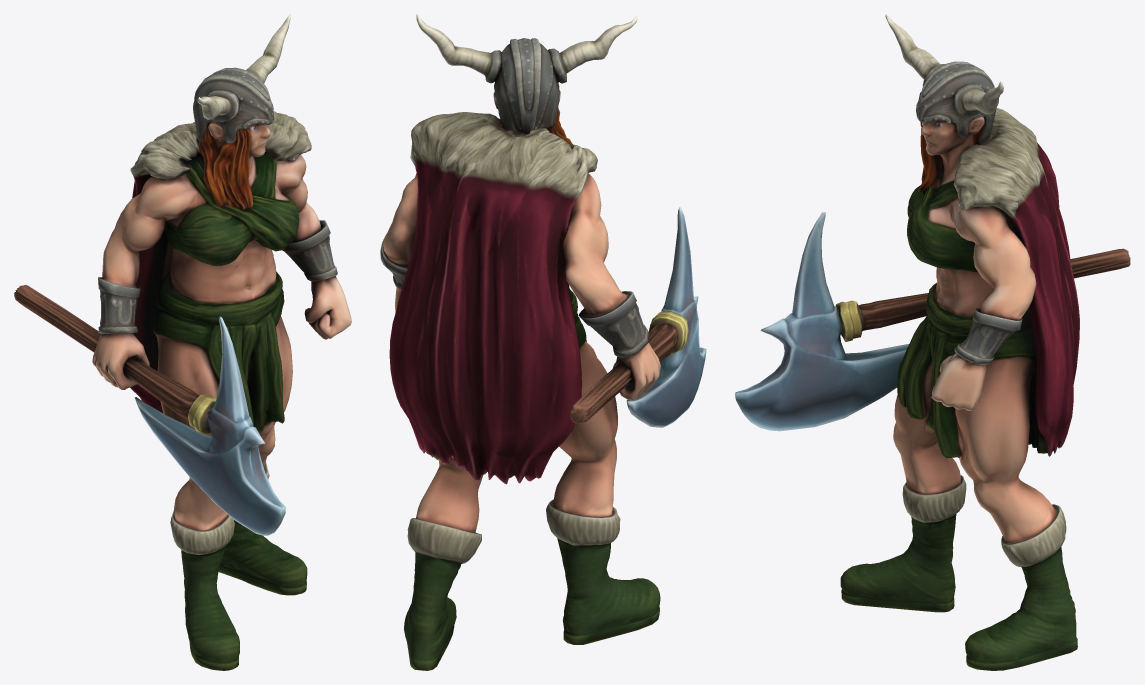
File: MZ4250 - Human Barbarian Female 02.glb
3 renders of one model, left to right at view 1: azimuth 30°, elevation 25°; view 2: azimuth 150°, elevation 25°; view 3: azimuth 270°, elevation 25°, orthographic. The views are drawn at different scales.
Visible parts, largest first — view 1: body_high.002, axe_high.002; view 2: body_high.002, axe_high.002; view 3: body_high.002, axe_high.002.
Part boxes in pixels (left/top/right/bottom): body_high.002: left=92, top=14, right=351, bottom=670; axe_high.002: left=14, top=285, right=285, bottom=535; body_high.002: left=380, top=14, right=660, bottom=670; axe_high.002: left=570, top=207, right=706, bottom=427; body_high.002: left=840, top=14, right=1079, bottom=670; axe_high.002: left=735, top=212, right=1130, bottom=431.
Bounding box in the file's own units: 3.28 × 7.11 × 4.35.
1 material, 1 textured.
